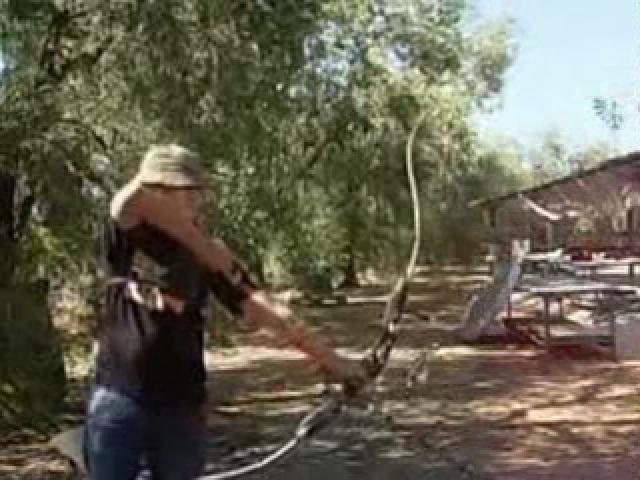I: (76, 124, 371, 480)
